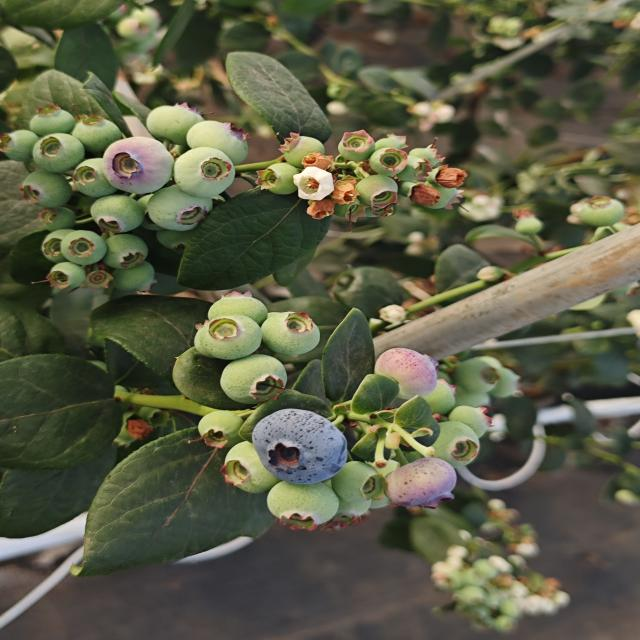ripe: (240, 404, 346, 492)
